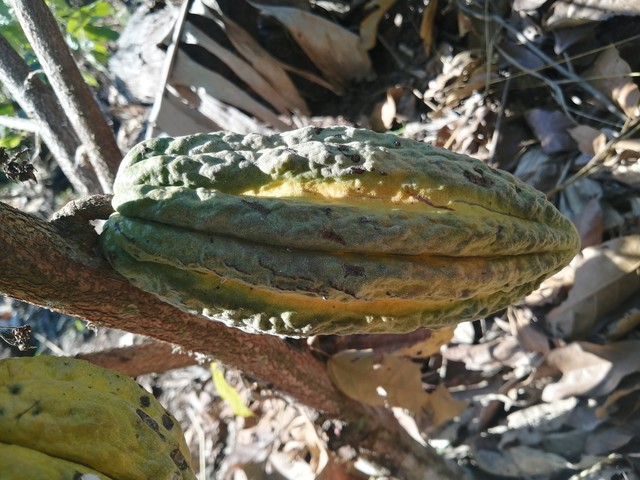moniliophthora perniciosa: (86, 119, 591, 341)
